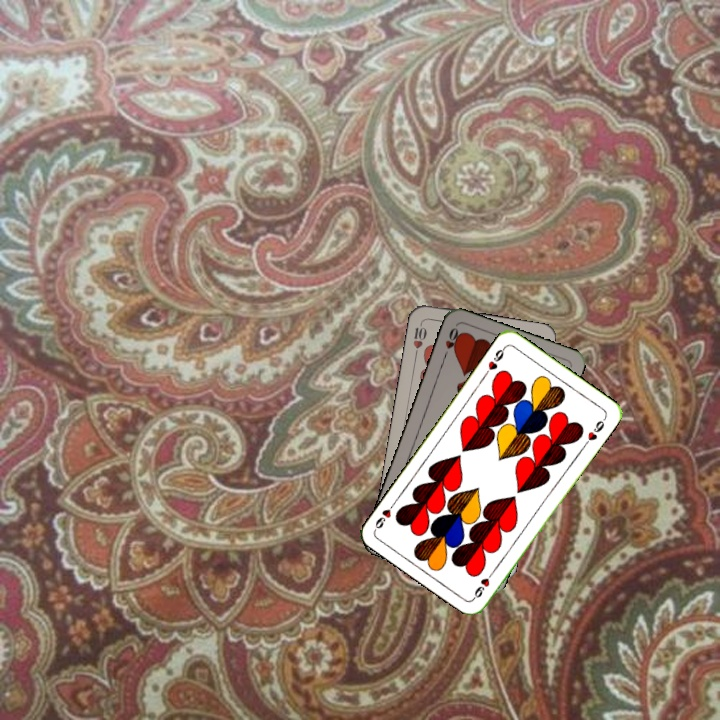H10: (409, 318, 429, 358)
H9: (480, 342, 508, 378), (469, 566, 497, 601)
HO: (439, 323, 463, 362)
